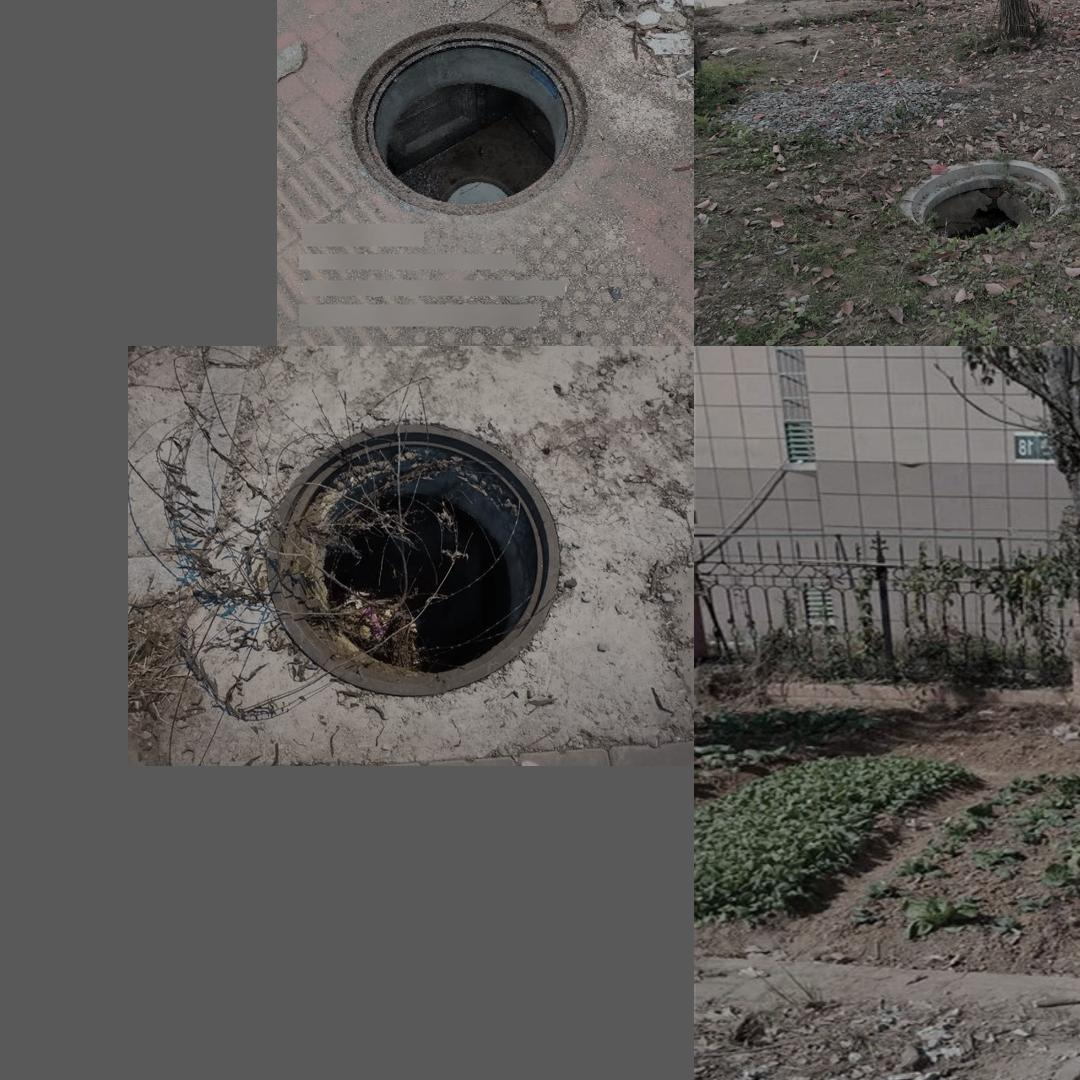lose: (254, 420, 568, 689), (351, 21, 586, 214), (901, 157, 1068, 242), (1044, 1022, 1080, 1080)
